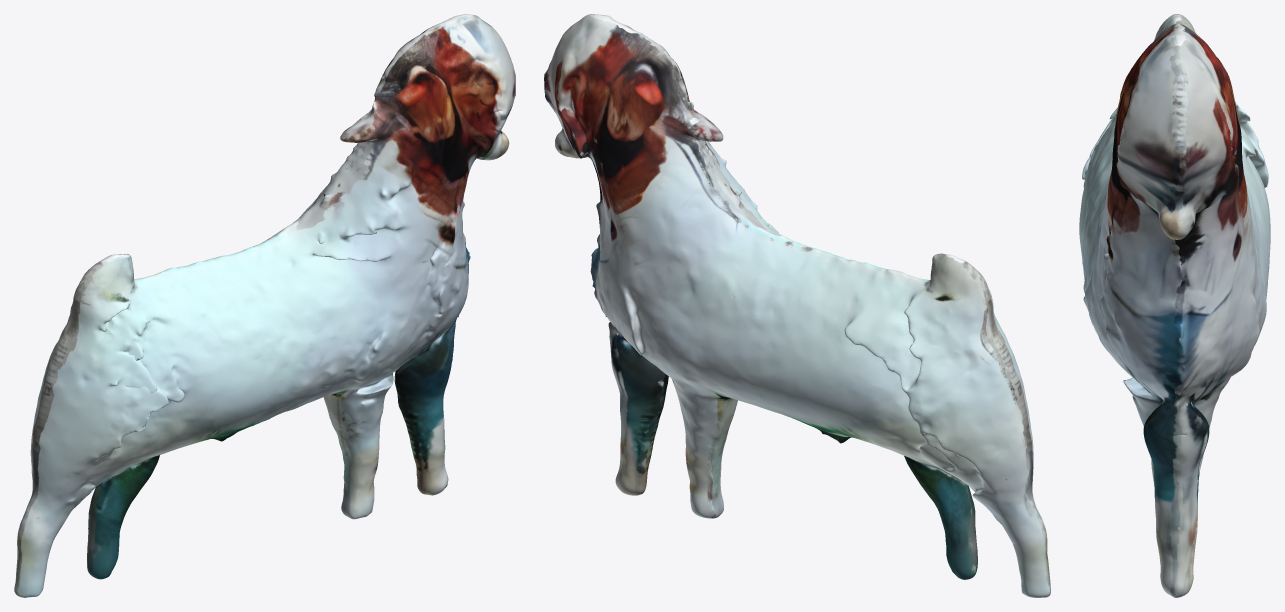
Rendered from adulto.glb.
3 views of the same model, side by side, from view 1: azimuth 30°, elevation 25°; view 2: azimuth 150°, elevation 25°; view 3: azimuth 270°, elevation 25° (orthographic). The views are drawn at different scales.
Parts seen in each view (by area): view 1: mesh; view 2: mesh; view 3: mesh.
Boxes of the visible parts, bbox=[...] form: mesh: bbox=[14, 14, 515, 597]; mesh: bbox=[544, 14, 1050, 597]; mesh: bbox=[1079, 14, 1270, 597].
Bounding box in the file's own units: 1.5 × 1.35 × 0.4041.
Materials: 1 (1 with a texture image).
